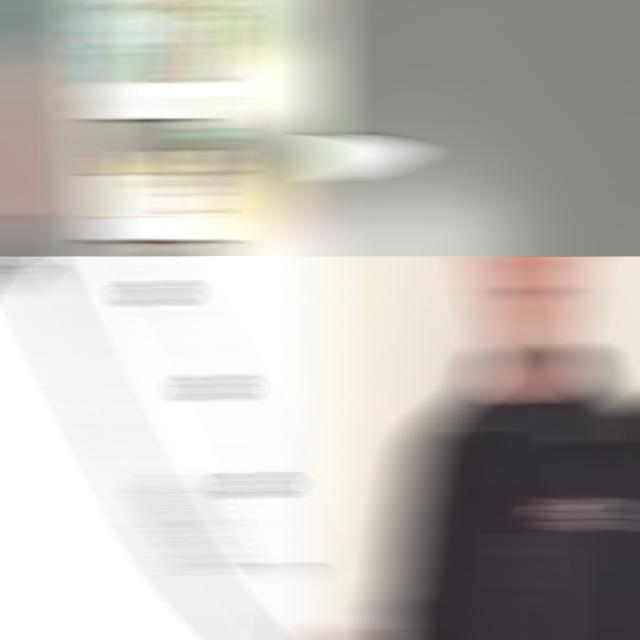Knife: (0, 256, 316, 640)
